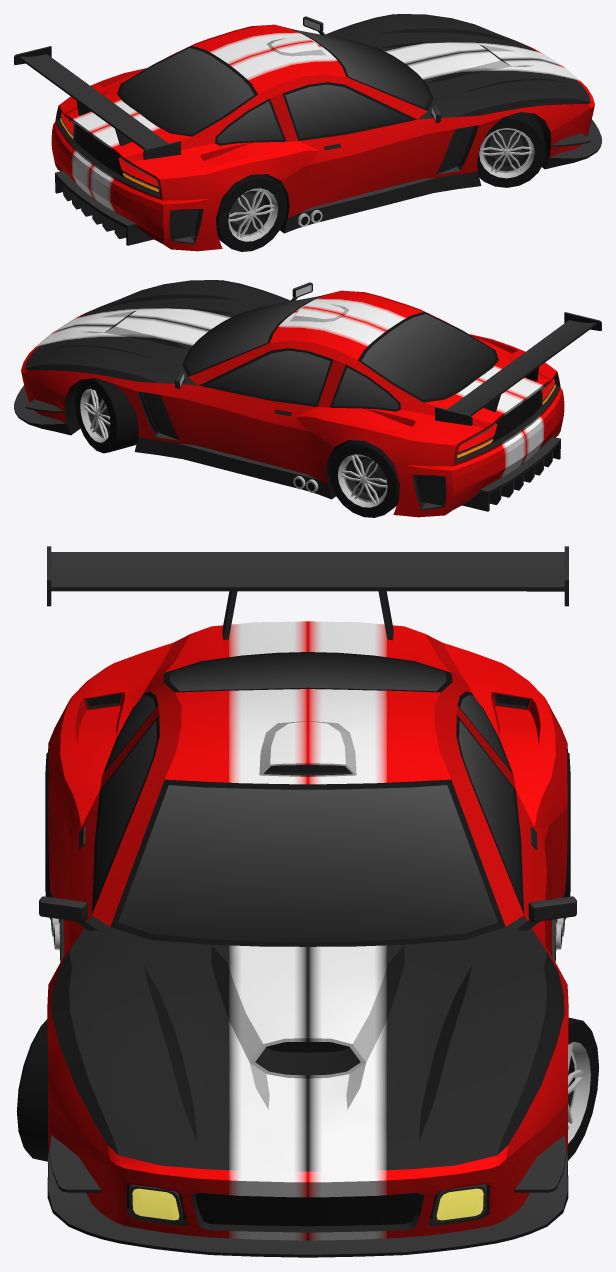
Rendered from RaceCar_047.glb.
3 renders of one model, top to bottom at view 1: azimuth 30°, elevation 25°; view 2: azimuth 150°, elevation 25°; view 3: azimuth 270°, elevation 25°, orthographic. The views are drawn at different scales.
Parts seen in each view (by area): view 1: RaceCar_047, wheel_3_RaceCar_047_Wheel_2R, wheel_1_RaceCar_047_Wheel_1R; view 2: RaceCar_047, wheel_2_RaceCar_047_Wheel_2L, wheel_0_RaceCar_047_Wheel_1L; view 3: RaceCar_047, wheel_1_RaceCar_047_Wheel_1R, wheel_0_RaceCar_047_Wheel_1L.
Part boxes in pixels (x1,y1,x2,y2): RaceCar_047: (14, 14, 601, 251); wheel_3_RaceCar_047_Wheel_2R: (216, 174, 287, 251); wheel_1_RaceCar_047_Wheel_1R: (477, 112, 545, 187); RaceCar_047: (14, 280, 601, 517); wheel_2_RaceCar_047_Wheel_2L: (328, 440, 399, 517); wheel_0_RaceCar_047_Wheel_1L: (75, 378, 138, 453); RaceCar_047: (39, 546, 576, 1257); wheel_1_RaceCar_047_Wheel_1R: (16, 1019, 48, 1161); wheel_0_RaceCar_047_Wheel_1L: (567, 1017, 598, 1160).
Bounding box in the file's own units: 4.43 × 1.16 × 2.28.
Materials: 2 (2 with a texture image).
